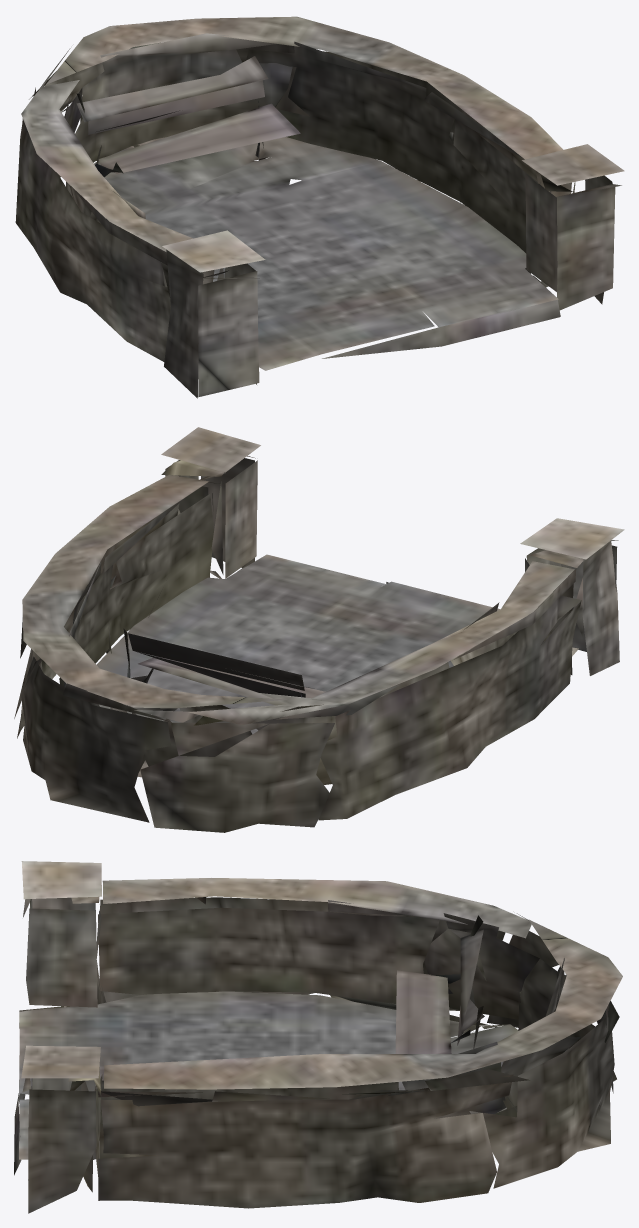
The model's file is serra_aussicht_lo.glb.
The picture shows the model from 3 angles, top to bottom: view 1: azimuth 30°, elevation 25°; view 2: azimuth 150°, elevation 25°; view 3: azimuth 270°, elevation 25°; orthographic projection. The views are drawn at different scales.
Visible parts, largest first — view 1: Prop; view 2: Prop; view 3: Prop.
Boxes of the visible parts, box(x1,y1,x2,y2) form: Prop: box(15, 16, 624, 398); Prop: box(14, 427, 624, 832); Prop: box(14, 861, 622, 1213).
Size of the model in its own units: 3.22 by 0.9939 by 3.85.
1 material, 1 textured.
